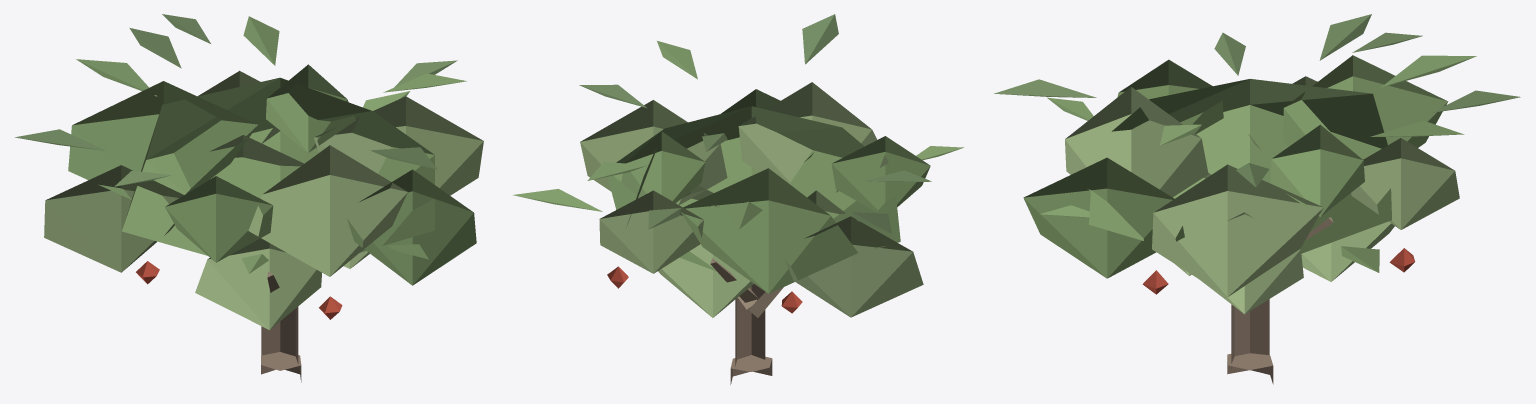
Rendered from nong.sang@fruiting__summer.glb.
The picture shows the model from 3 angles, left to right: view 1: azimuth 30°, elevation 25°; view 2: azimuth 150°, elevation 25°; view 3: azimuth 270°, elevation 25°; orthographic projection. The views are drawn at different scales.
Parts seen in each view (by area): view 1: nong.sang@fruiting__summer; view 2: nong.sang@fruiting__summer; view 3: nong.sang@fruiting__summer.
Boxes of the visible parts, x1,y1,x2,y2 form: nong.sang@fruiting__summer: (15, 14, 483, 382); nong.sang@fruiting__summer: (513, 14, 963, 384); nong.sang@fruiting__summer: (994, 14, 1520, 384).
Bounding box in the file's own units: 8.5 × 6.33 × 9.27.
